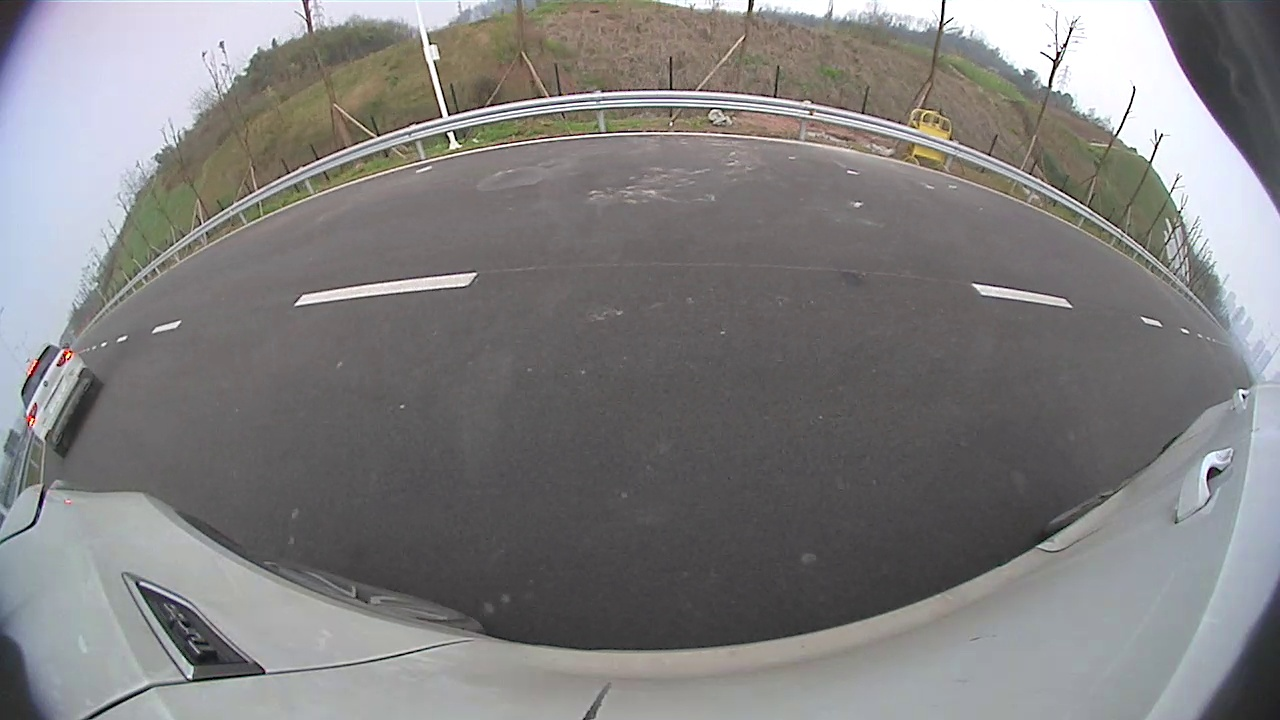car: (20, 343, 104, 458)
